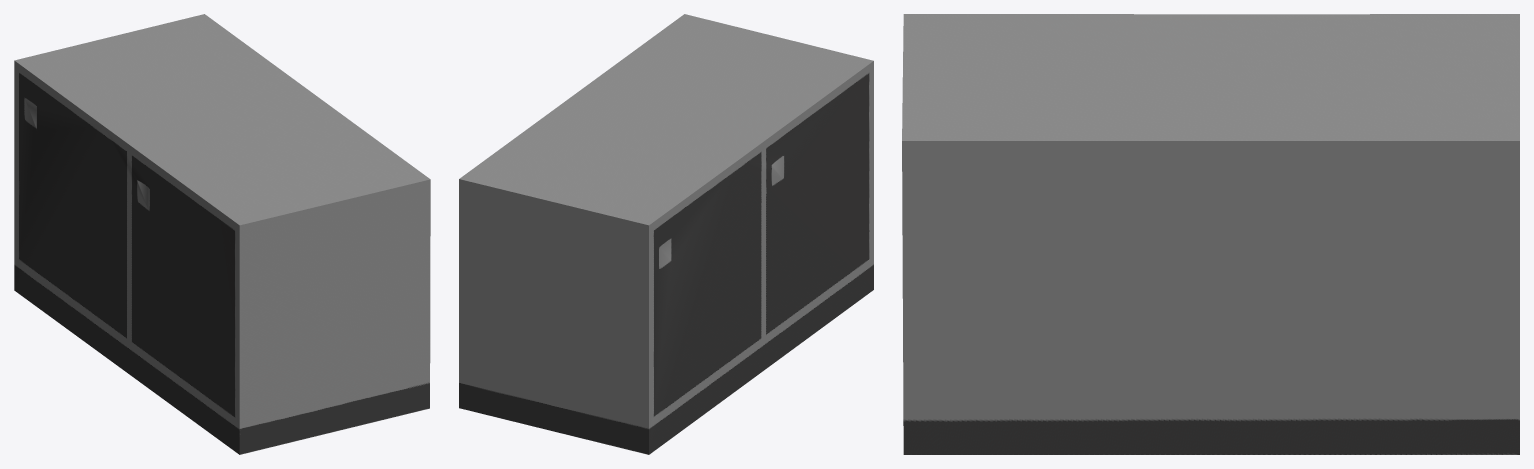
File: Cabinet_03_snaps001.fbx
3 renders of one model, left to right at view 1: azimuth 30°, elevation 25°; view 2: azimuth 150°, elevation 25°; view 3: azimuth 270°, elevation 25°, orthographic. The views are drawn at different scales.
Visible parts, largest first — view 1: Cabinet_03_snaps001; view 2: Cabinet_03_snaps001; view 3: Cabinet_03_snaps001.
Boxes of the visible parts, x1,y1,x2,y2 form: Cabinet_03_snaps001: [14, 14, 430, 454]; Cabinet_03_snaps001: [459, 14, 873, 454]; Cabinet_03_snaps001: [902, 14, 1519, 454].
Size of the model in its own units: 73.06 by 84.39 by 150.
